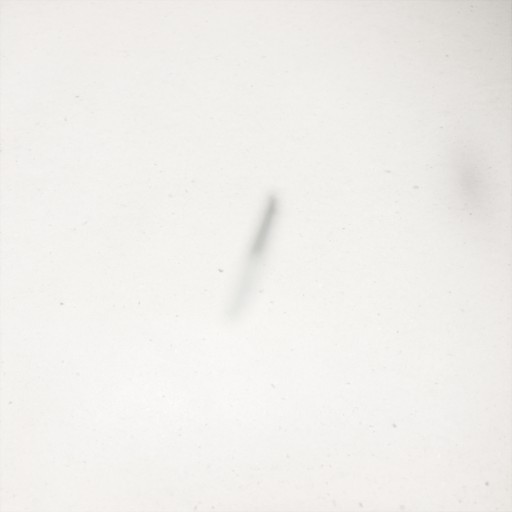lego: (220, 189, 284, 327)
